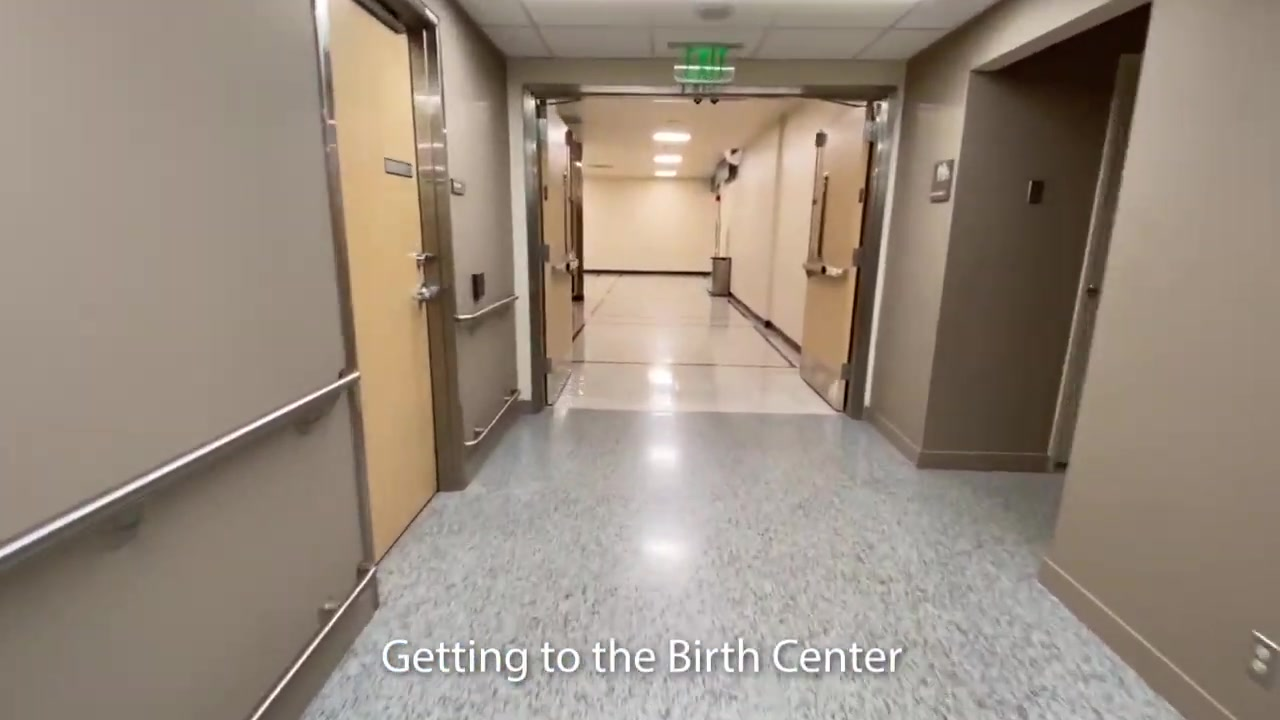door_handle: (409, 249, 437, 272), (415, 284, 439, 306)
hallway_assist_bar: (1, 368, 362, 571), (91, 563, 379, 720), (456, 388, 522, 449), (454, 294, 518, 323)
push_latch: (804, 255, 848, 281), (551, 251, 579, 276)
waste_bin: (711, 256, 731, 296)
